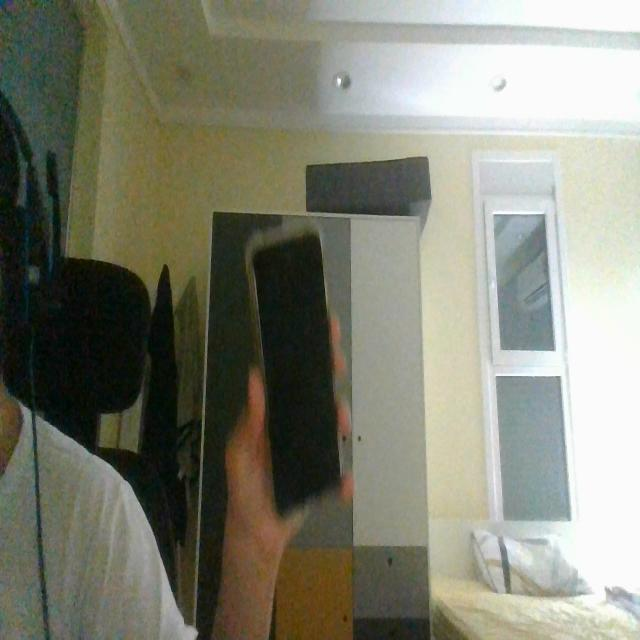Phone: (248, 227, 346, 519)
